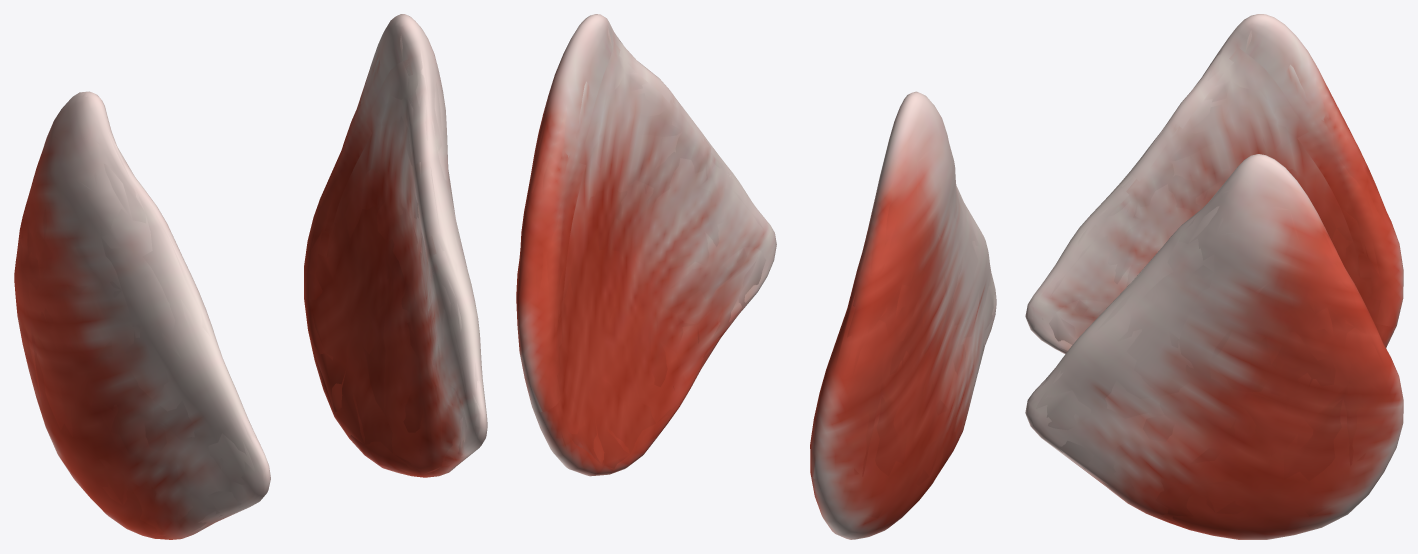
The model's file is Masseter.fbx.
3 views of the same model, side by side, from view 1: azimuth 30°, elevation 25°; view 2: azimuth 150°, elevation 25°; view 3: azimuth 270°, elevation 25° (orthographic). The views are drawn at different scales.
Parts seen in each view (by area): view 1: Masseter, Masseter low; view 2: Masseter, Masseter low; view 3: Masseter, Masseter low.
Part boxes in pixels (box(x1,y1,x2,y2)): Masseter: box(14, 14, 487, 539); Masseter low: box(16, 15, 487, 536); Masseter: box(516, 14, 996, 539); Masseter low: box(516, 16, 995, 518); Masseter: box(1025, 14, 1403, 539); Masseter low: box(1027, 17, 1395, 527).
Bounding box in the file's own units: 25.55 × 28.28 × 24.36.
